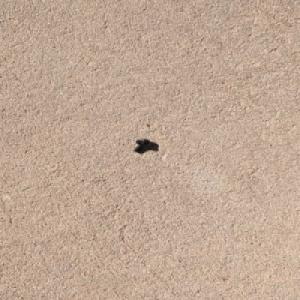BoltWasher: (132, 138, 152, 152)
